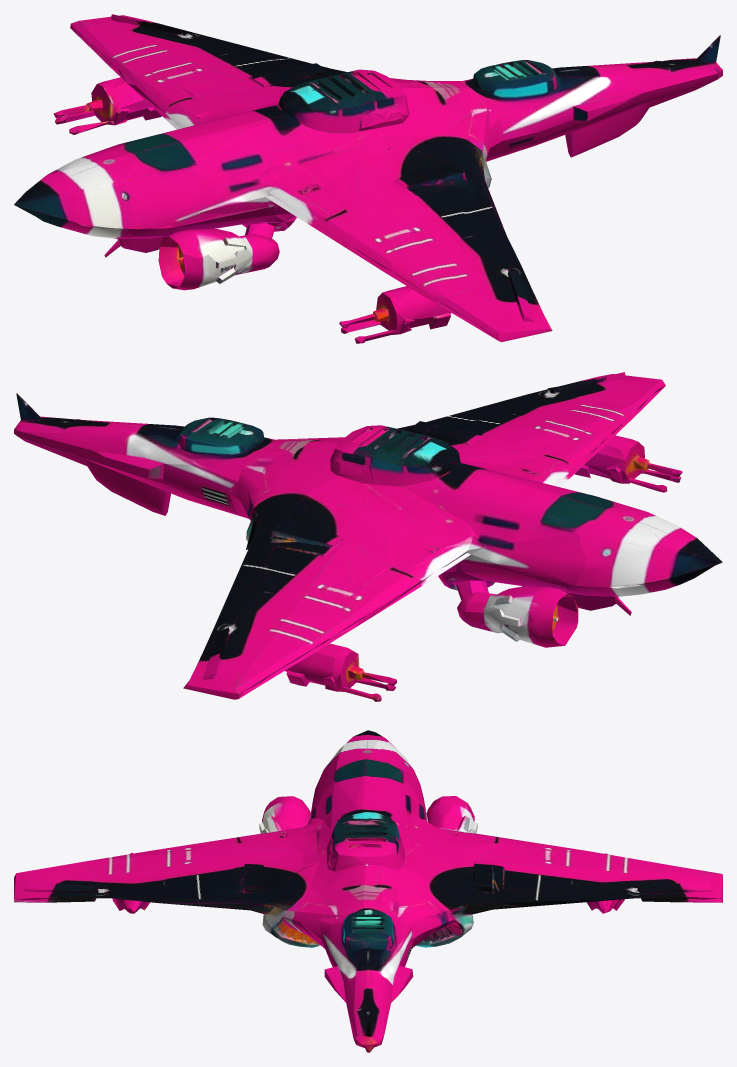
File: nation-n-cruiser.glb
3 renders of one model, top to bottom at view 1: azimuth 30°, elevation 25°; view 2: azimuth 150°, elevation 25°; view 3: azimuth 270°, elevation 25°, orthographic. The views are drawn at different scales.
Size of the model in its own units: 1.81 by 0.3194 by 1.9.
Materials: 1 (1 with a texture image).
